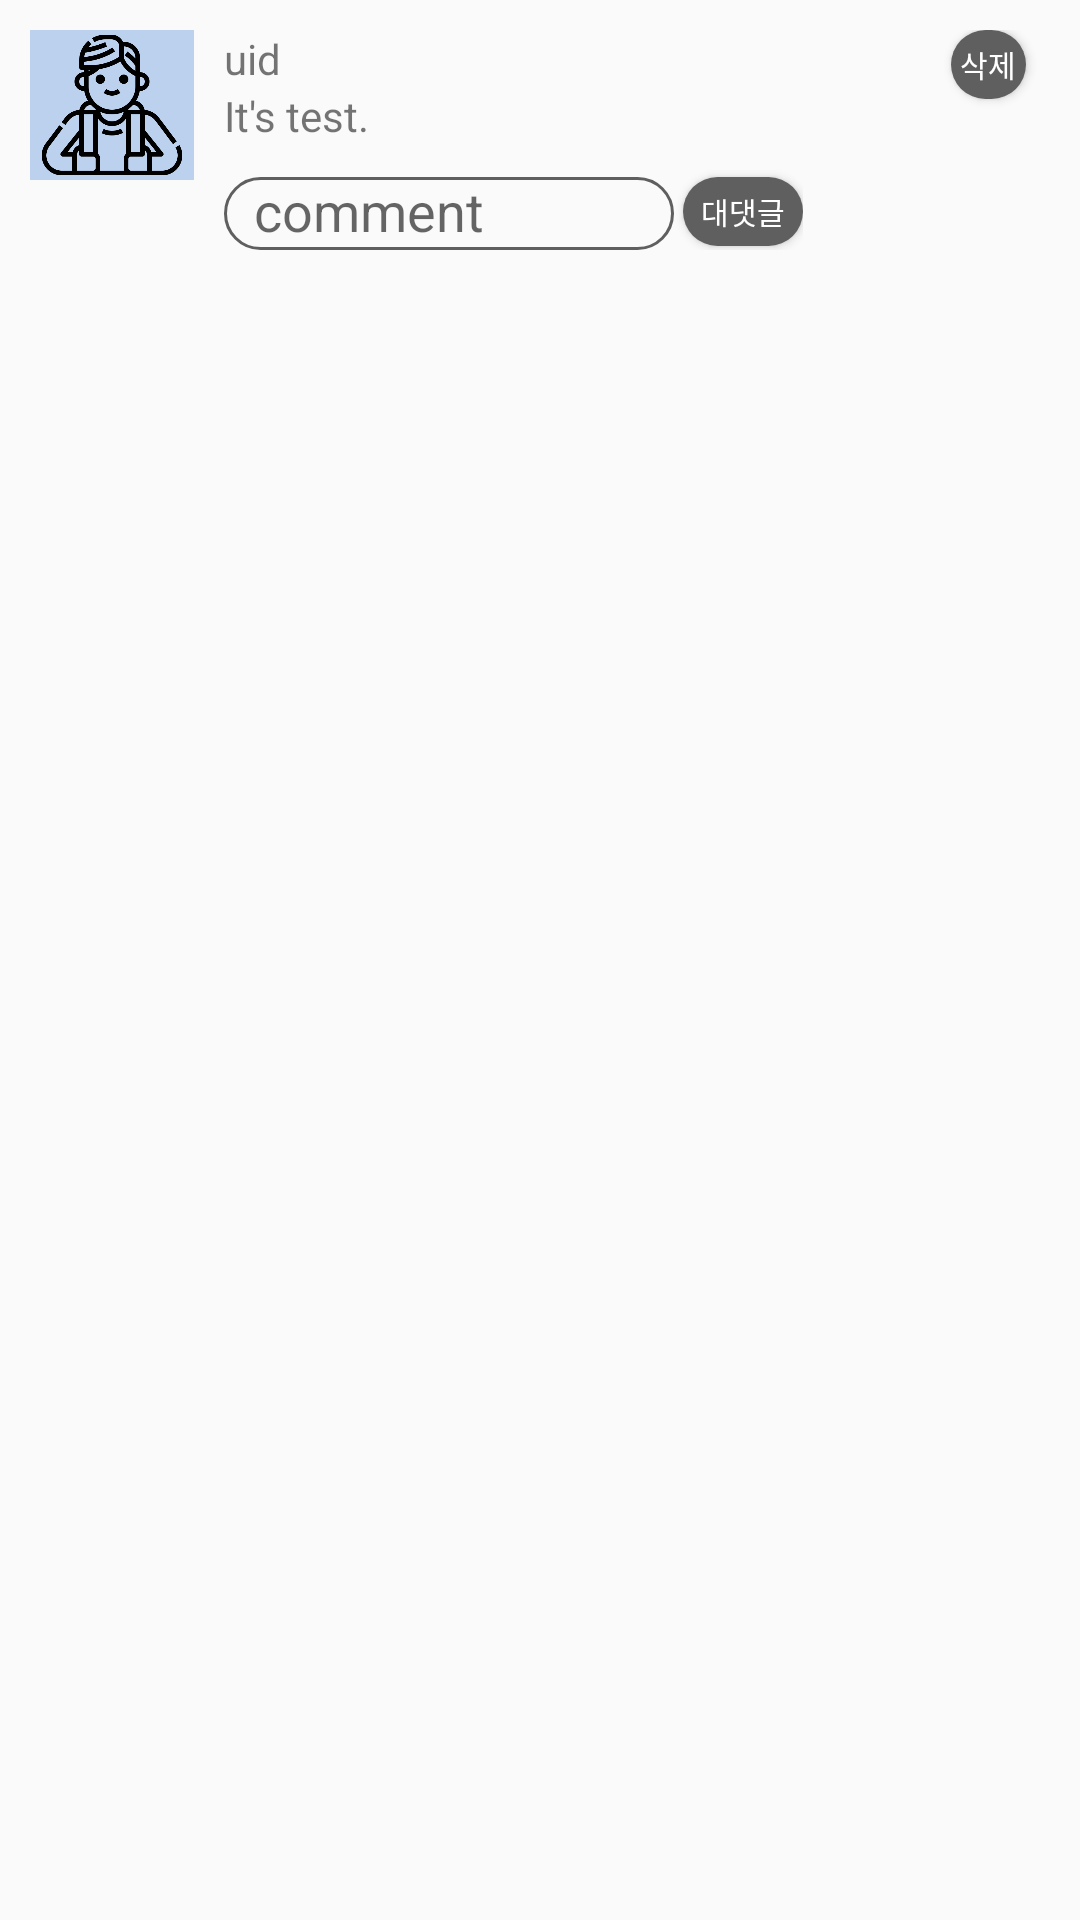

Screen size 1080px×1920px. Icon name, then its center in pixels as (x=x, y=y):
student: (x=112, y=105)
